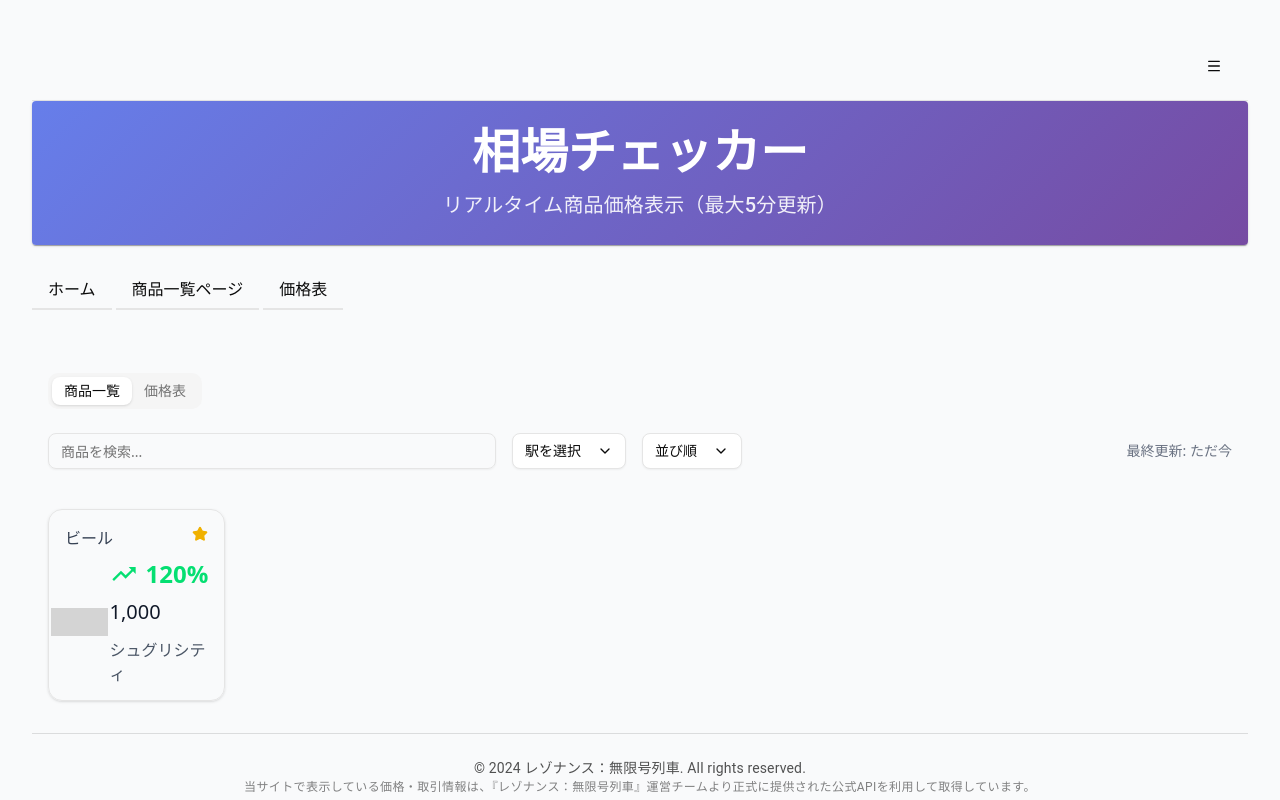
Home › switches to price table tab and shows percent values
This screenshot has width=1280, height=800.
Expected: the tab "商品一覧" is shown, [52,377,132,405]
Click the tab "価格表" at [165, 391], box [132,377,198,405]
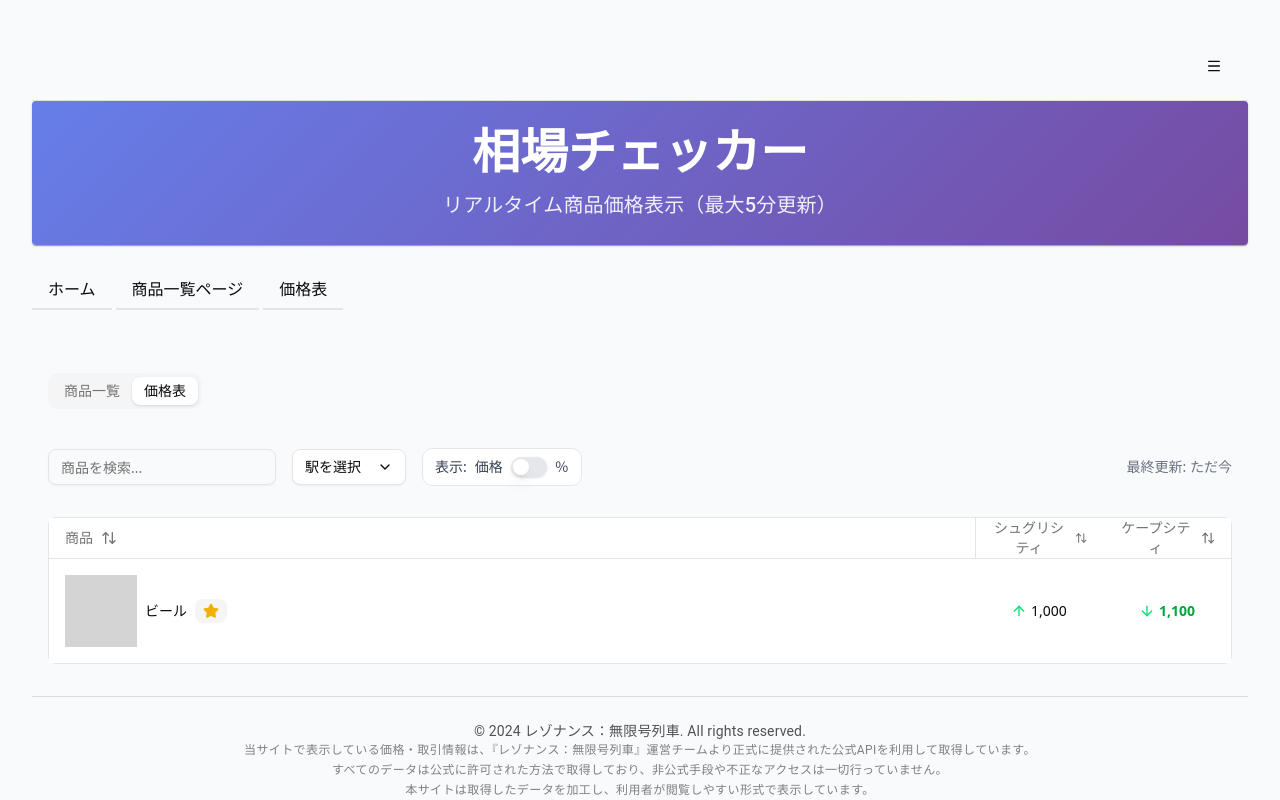
Expected: the text "ビール" is shown, [145,601,187,621]
Expected: the text "1,100" is shown, [1159,601,1195,621]
Click the switch named "価格/％表示切替" at [529, 467], box [511,457,547,477]
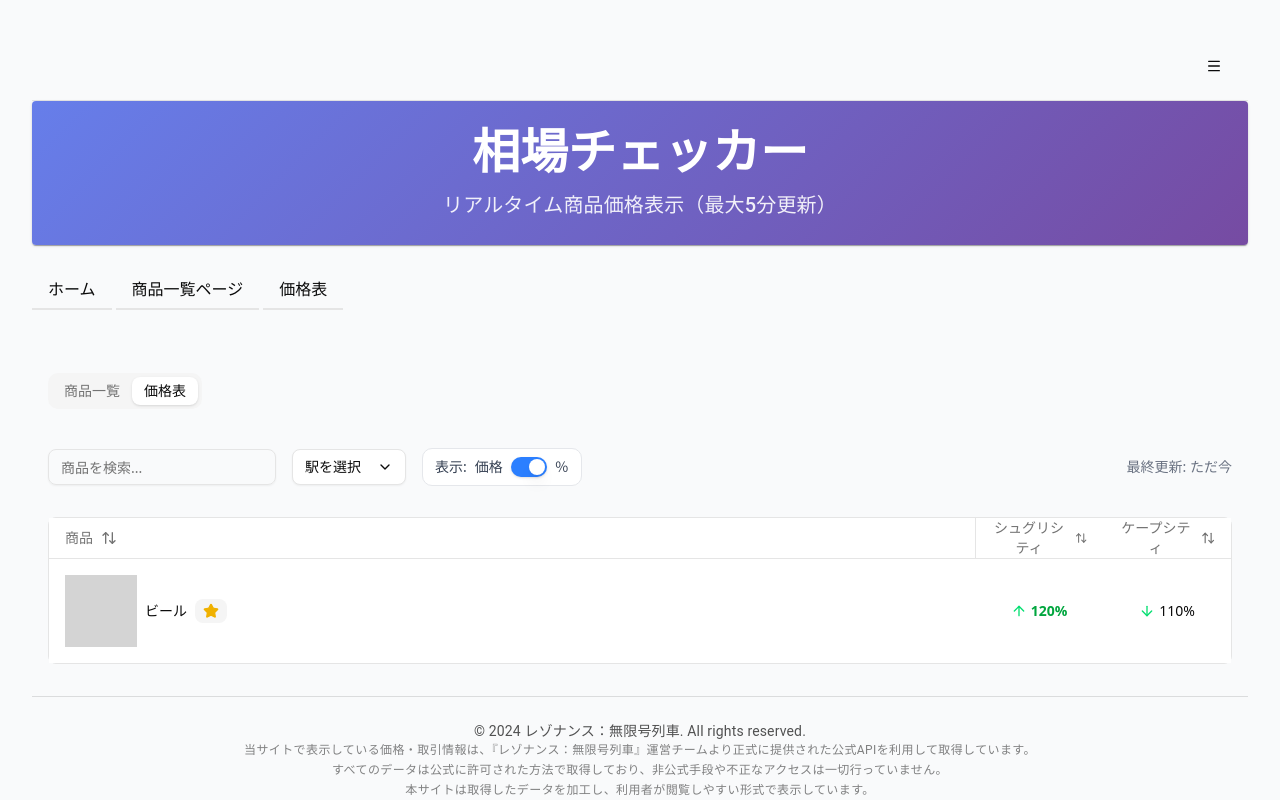
Expected: the text "120%" is shown, [1031,601,1067,621]
